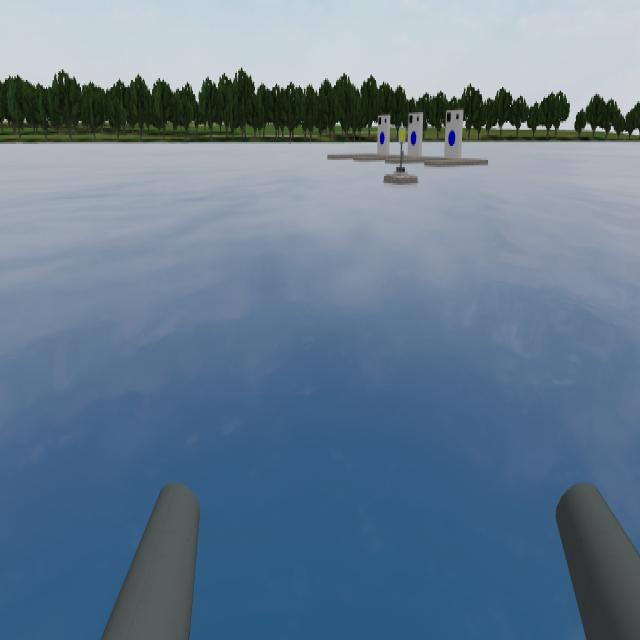yellow_pole: (395, 124, 407, 145)
